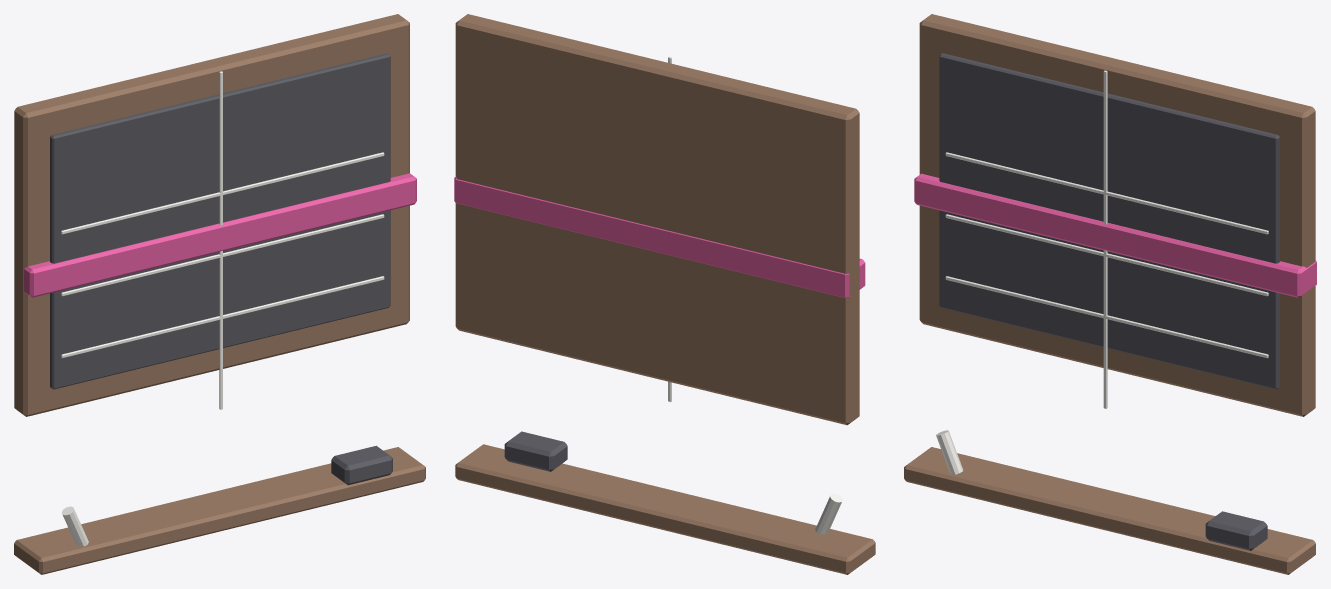
Rendered from bowling-alley-and-pool-hall-scoreboard-slate-daf22010__33860.glb.
The picture shows the model from 3 angles, left to right: view 1: azimuth 30°, elevation 25°; view 2: azimuth 150°, elevation 25°; view 3: azimuth 330°, elevation 25°; orthographic projection. The views are drawn at different scales.
Parts seen in each view (by area): view 1: scoreboard-slate; view 2: scoreboard-slate; view 3: scoreboard-slate.
Boxes of the visible parts, <box> form: scoreboard-slate: <box>14,14,425,574</box>; scoreboard-slate: <box>454,14,875,574</box>; scoreboard-slate: <box>904,14,1316,574</box>.
Bounding box in the file's own units: 0.7212 × 0.8 × 0.0987.
